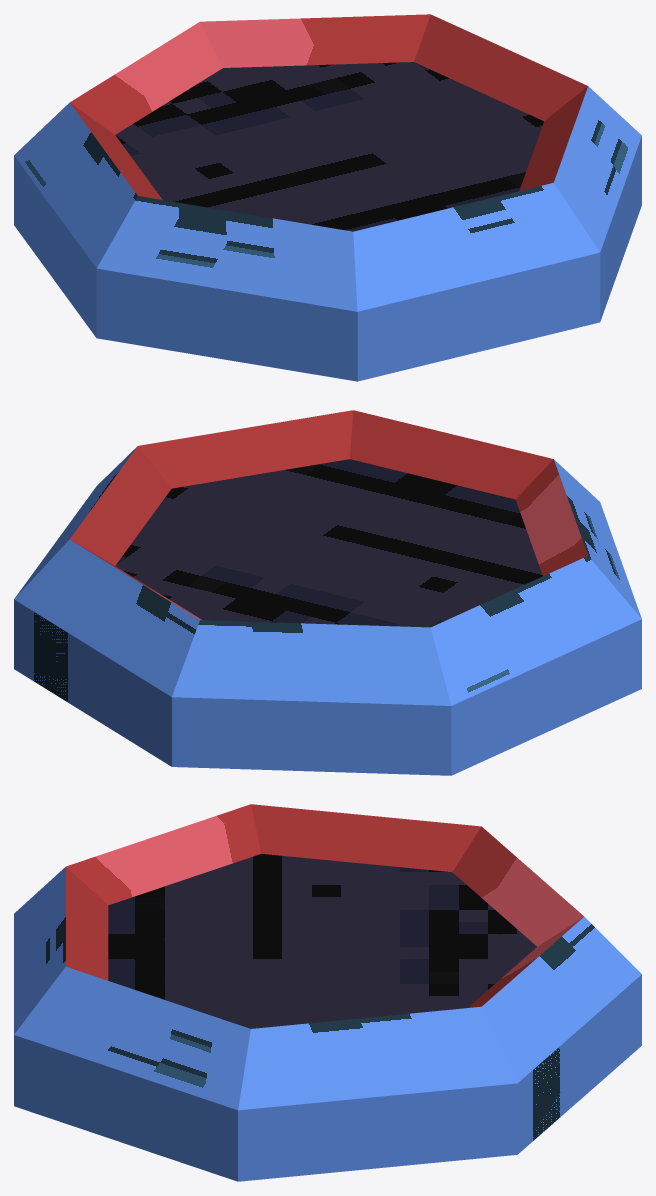
Rendered from weapon_pedestals.gltf.
The picture shows the model from 3 angles, top to bottom: view 1: azimuth 30°, elevation 25°; view 2: azimuth 150°, elevation 25°; view 3: azimuth 270°, elevation 25°; orthographic projection. The views are drawn at different scales.
Parts seen in each view (by area): view 1: weapon_pedistile; view 2: weapon_pedistile; view 3: weapon_pedistile.
Part boxes in pixels (x1=…): weapon_pedistile: x1=14, y1=14, x2=641, y2=381; weapon_pedistile: x1=14, y1=410, x2=641, y2=775; weapon_pedistile: x1=14, y1=804, x2=641, y2=1181.
Bounding box in the file's own units: 0.0609 × 0.0135 × 0.0594.
Materials: 4 (4 with a texture image).
